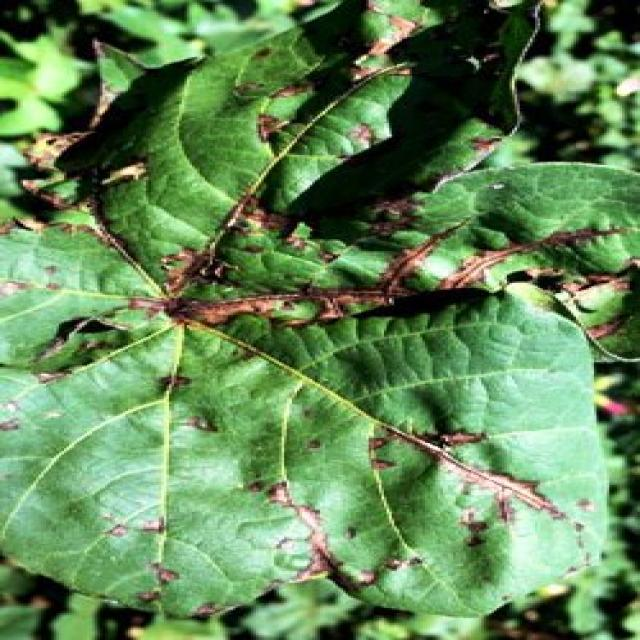Bacterial Blight: (95, 154, 535, 396)
